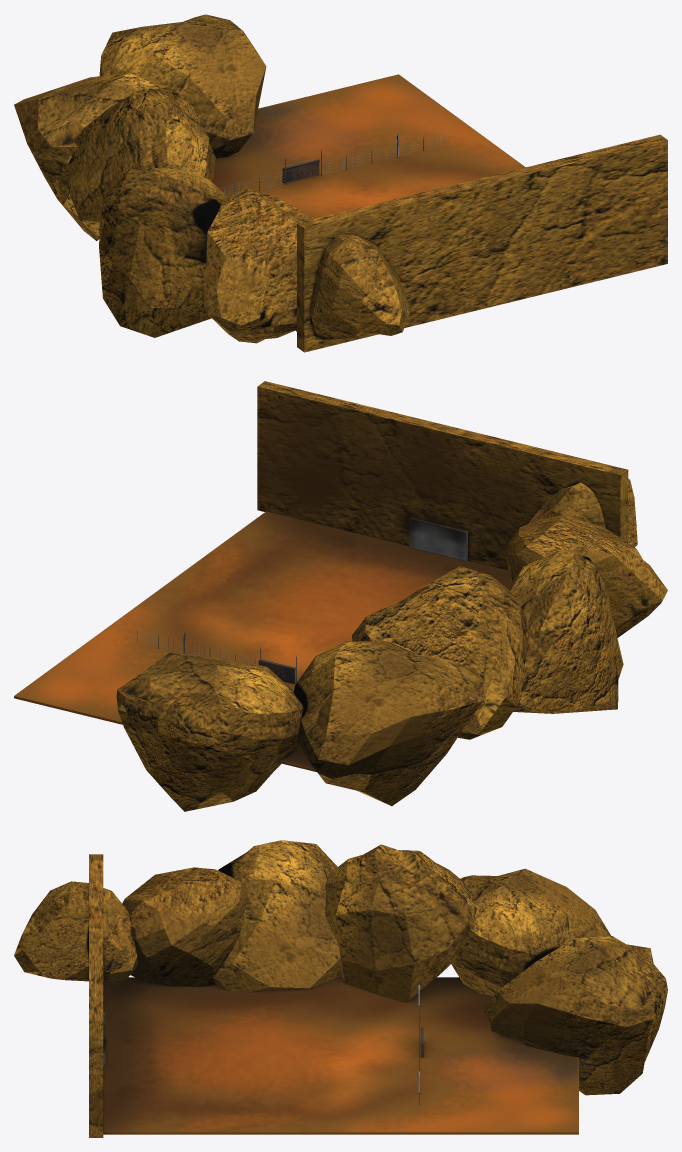
File: map1.glb
3 renders of one model, top to bottom at view 1: azimuth 30°, elevation 25°; view 2: azimuth 150°, elevation 25°; view 3: azimuth 270°, elevation 25°, orthographic. The views are drawn at different scales.
Visible parts, largest first — view 1: Map1; view 2: Map1; view 3: Map1.
Part boxes in pixels (bbox=[...]): Map1: bbox=[14, 14, 667, 352]; Map1: bbox=[14, 381, 667, 811]; Map1: bbox=[14, 840, 667, 1137].
Bounding box in the file's own units: 625 × 251 × 828.
Materials: 1 (1 with a texture image).
